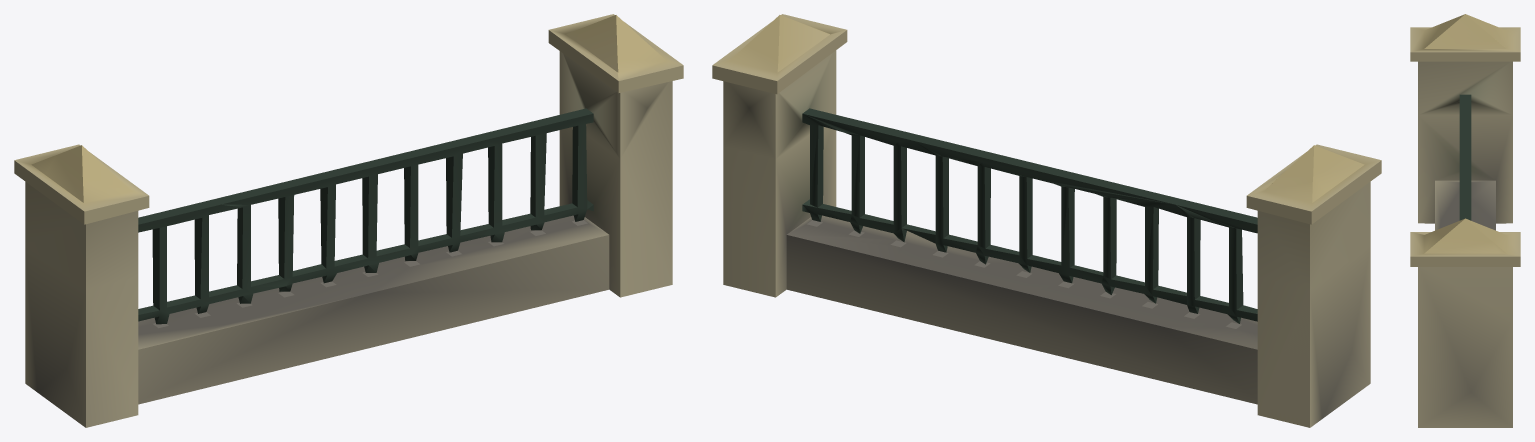
The model's file is hang_rao_khach_san_grand.mid.glb.
The picture shows the model from 3 angles, left to right: view 1: azimuth 30°, elevation 25°; view 2: azimuth 150°, elevation 25°; view 3: azimuth 270°, elevation 25°; orthographic projection. The views are drawn at different scales.
Visible parts, largest first — view 1: hang_rao_khach_san_grand; view 2: hang_rao_khach_san_grand; view 3: hang_rao_khach_san_grand.
Part boxes in pixels (<box>): hang_rao_khach_san_grand: <box>14,14,683,427</box>; hang_rao_khach_san_grand: <box>712,14,1381,427</box>; hang_rao_khach_san_grand: <box>1410,14,1520,427</box>.
Size of the model in its own units: 2.86 by 1.16 by 0.58.
